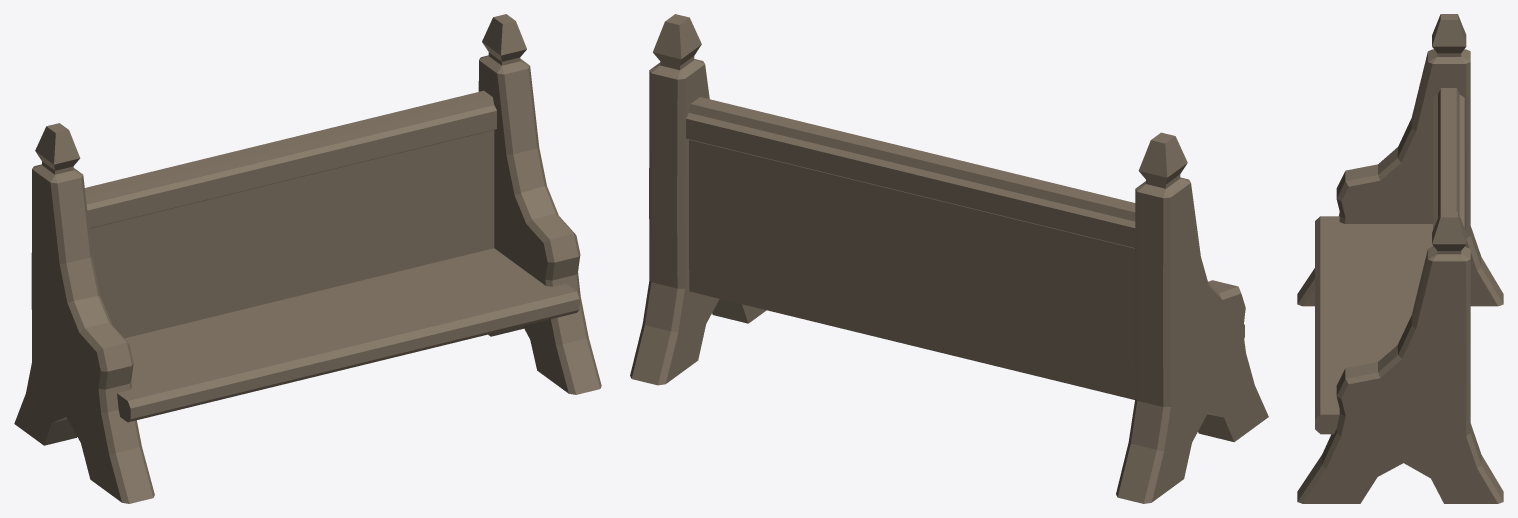
Rendered from PewBench.fbx.
The picture shows the model from 3 angles, left to right: view 1: azimuth 30°, elevation 25°; view 2: azimuth 150°, elevation 25°; view 3: azimuth 270°, elevation 25°; orthographic projection. The views are drawn at different scales.
Parts seen in each view (by area): view 1: PewBench; view 2: PewBench; view 3: PewBench.
Part boxes in pixels (x1,y1,x2,y2): PewBench: (14,14,601,503); PewBench: (630,14,1268,503); PewBench: (1297,14,1503,503).
Bounding box in the file's own units: 250 × 155 × 103.
